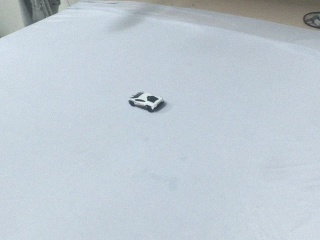toy_car: (129, 92, 164, 112)
